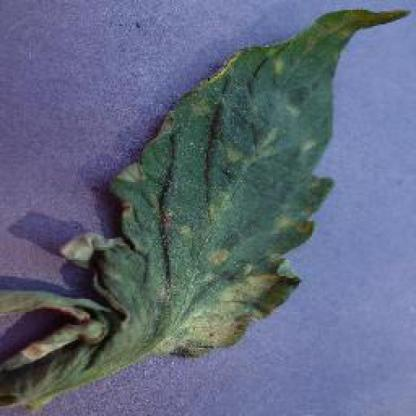Tomato_Leaf_Mold: (57, 4, 407, 351)
